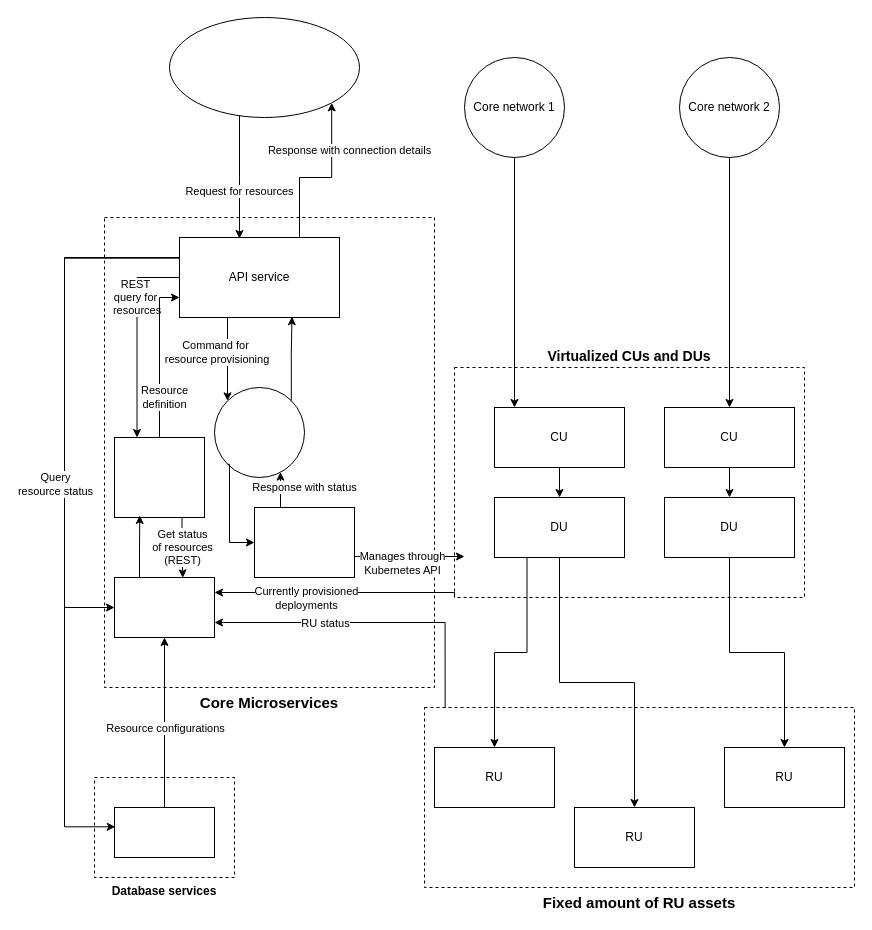
Some shapes in this 872 by 930 pixel diagram are drawn without their labels. Each missing label, with the centre of its shape:
Core network operators (clients): the point at 264,67
MongoDB: the point at 164,832
Orchestration service: the point at 159,477
RabbitMQ broker: the point at 259,432
Status service: the point at 164,607
Worker service: the point at 304,542
